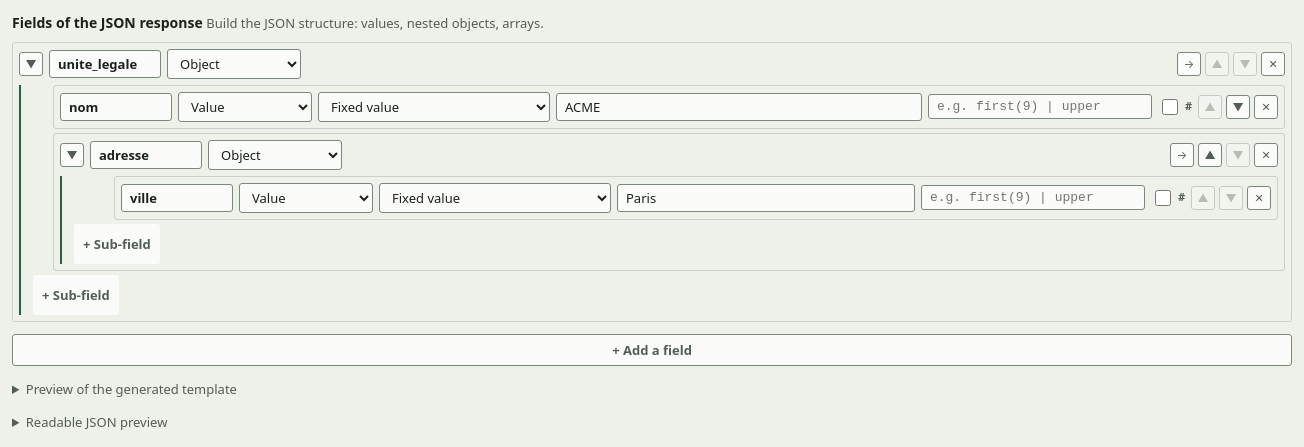
Scenario: JsonResponseBuilder — breadcrumb navigation › the "Go into" button opens a nested object and shows the breadcrumb
The image size is (1304, 447).
Click the button named "Go into unite_legale": click(1189, 64) x1=1177 y1=52 x2=1201 y2=76
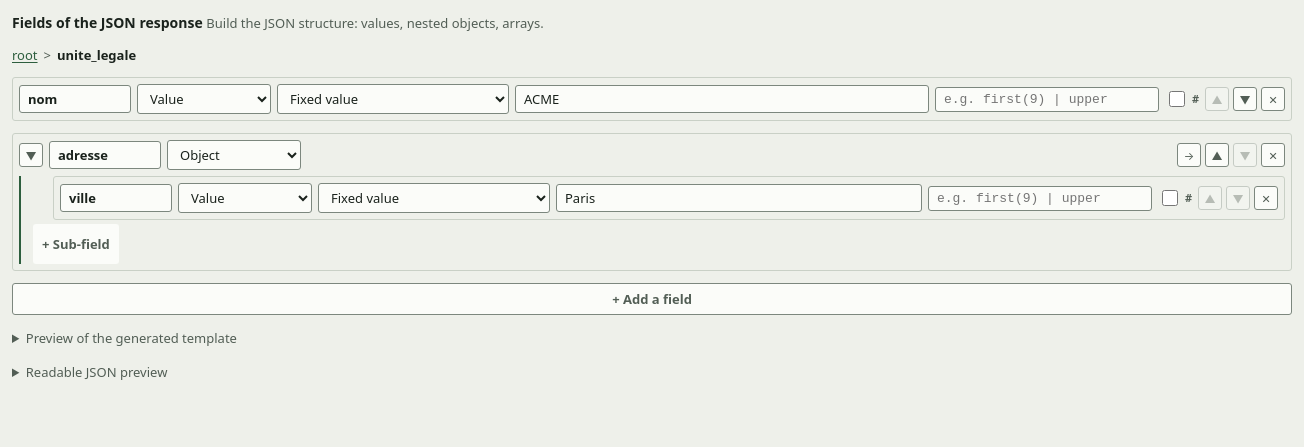
expect the navigation bar named "Data path" is shown: met, box x1=12 y1=46 x2=136 y2=65
expect the navigation bar named "Data path" shows "root": met, box x1=12 y1=46 x2=38 y2=65
expect the navigation bar named "Data path" shows "unite_legale": met, box x1=57 y1=46 x2=136 y2=64
